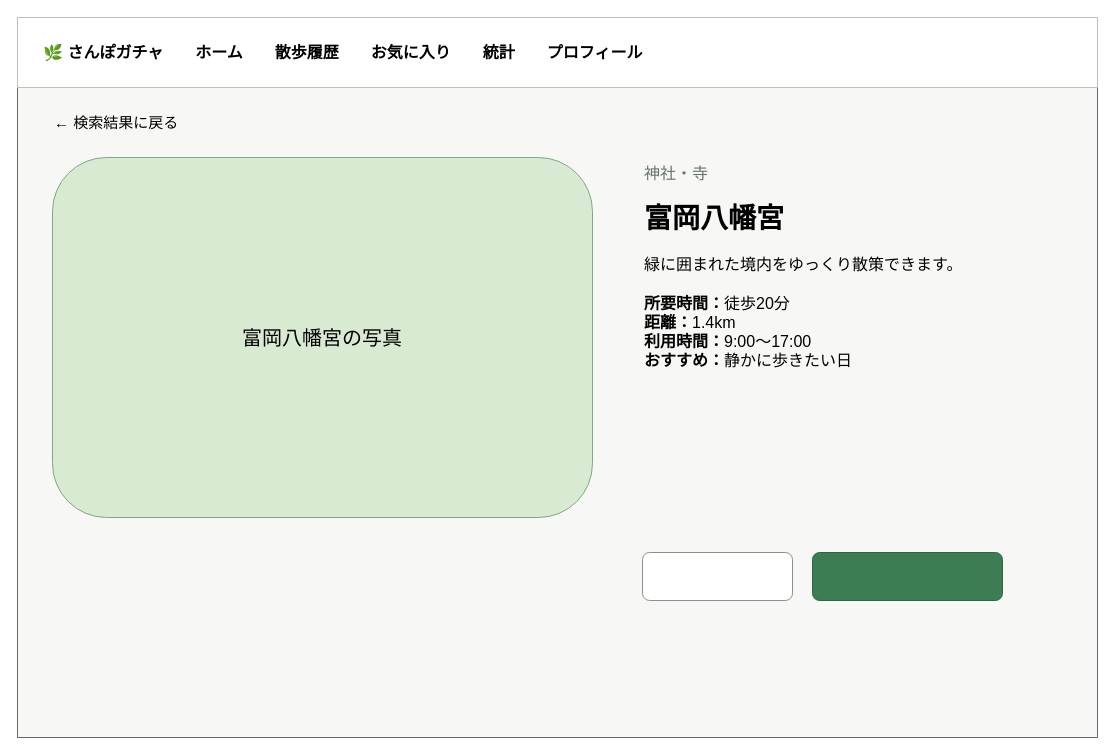
Some shapes in this 1115 by 755 pixel diagram are drawn without their labels. Each missing label, with the centre of its shape:
"♡ お気に入り" belongs at pixel 717 576.
"ここへ散歩する" belongs at pixel 907 576.
